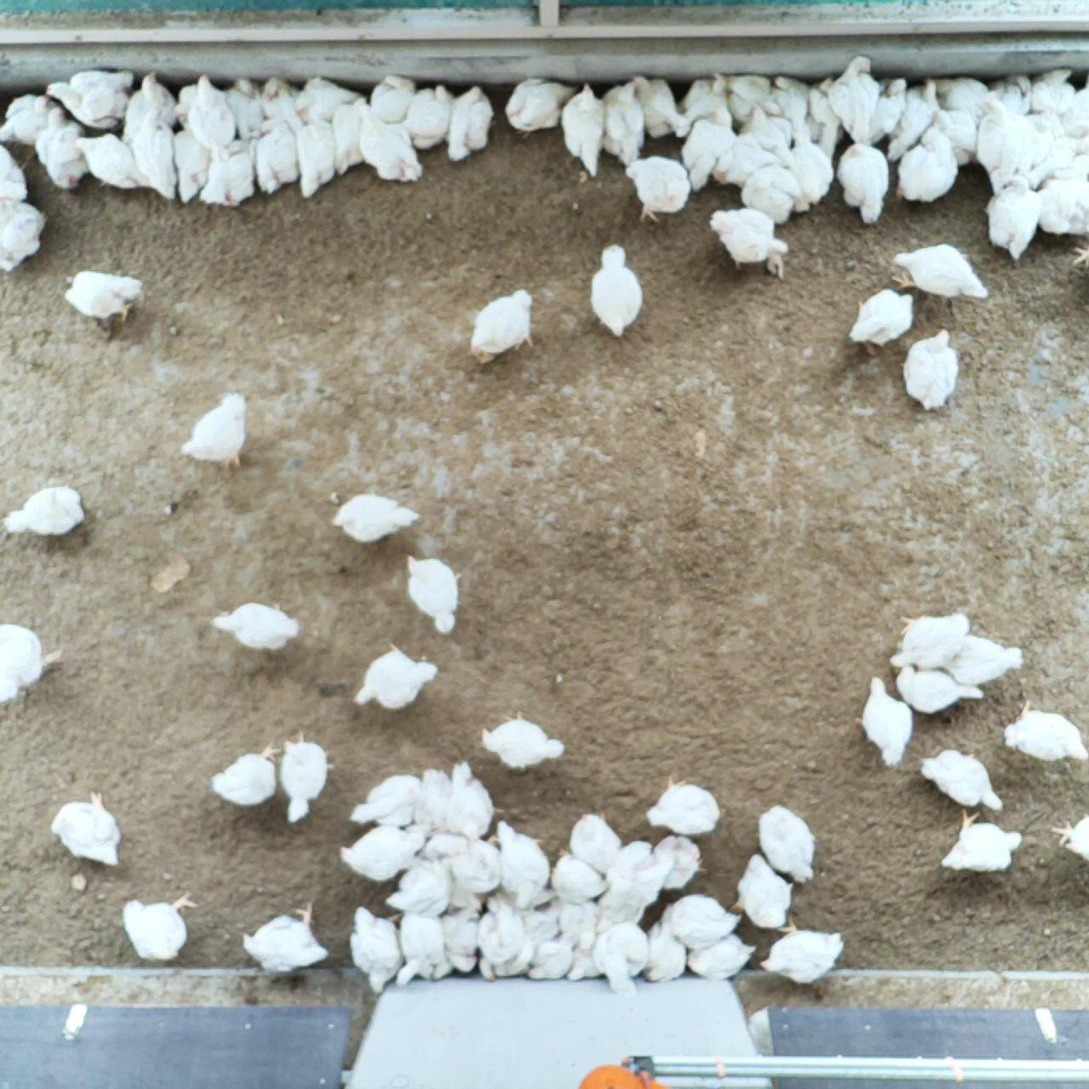chicken: (41, 65, 139, 132), (919, 745, 1008, 813), (350, 105, 425, 185), (50, 791, 124, 871), (890, 241, 990, 300), (273, 728, 333, 826), (760, 915, 849, 981), (119, 887, 196, 963), (244, 902, 331, 969), (880, 612, 971, 676), (975, 92, 1034, 190), (587, 240, 646, 336), (353, 643, 441, 707), (412, 828, 499, 892), (641, 772, 724, 839), (124, 101, 180, 200), (336, 821, 429, 880), (482, 707, 568, 770), (676, 108, 739, 194), (1005, 698, 1089, 762), (181, 389, 248, 469), (402, 552, 465, 637), (880, 75, 943, 160), (465, 288, 533, 366), (938, 809, 1022, 872), (827, 53, 881, 150), (707, 206, 790, 269), (389, 905, 455, 984), (758, 800, 819, 885), (348, 907, 408, 993), (859, 675, 915, 767), (33, 107, 93, 191), (890, 664, 989, 714), (71, 130, 151, 191), (832, 140, 890, 224), (596, 78, 647, 173), (62, 267, 144, 326), (211, 740, 282, 808), (0, 482, 86, 538), (934, 633, 1026, 685), (506, 74, 583, 136), (732, 854, 798, 926), (175, 76, 239, 150), (331, 489, 419, 542), (493, 817, 545, 905), (625, 157, 693, 224), (213, 602, 300, 654), (898, 126, 956, 204), (559, 81, 607, 175), (399, 77, 456, 156), (902, 328, 958, 408), (437, 759, 493, 838), (847, 287, 916, 350), (858, 71, 914, 148), (985, 174, 1036, 258), (602, 836, 664, 905), (666, 892, 738, 950), (112, 70, 176, 135), (627, 69, 689, 136), (194, 144, 255, 212), (708, 68, 782, 124), (383, 860, 453, 919), (0, 189, 48, 273), (785, 126, 836, 205), (595, 922, 651, 993), (288, 74, 361, 128), (674, 68, 734, 132), (586, 881, 651, 939), (442, 84, 489, 163), (362, 70, 420, 134), (743, 162, 803, 223), (0, 94, 61, 153), (0, 620, 42, 705), (328, 91, 368, 180), (1028, 132, 1089, 190), (348, 778, 420, 827), (802, 76, 844, 160), (294, 117, 335, 203), (712, 138, 779, 190), (685, 934, 761, 979), (1033, 174, 1089, 235), (930, 76, 999, 125), (638, 920, 690, 984), (932, 104, 984, 168), (253, 69, 302, 136), (1018, 106, 1067, 172), (477, 894, 525, 961), (570, 812, 616, 880), (254, 119, 294, 197), (1026, 67, 1074, 130), (656, 830, 707, 889), (172, 123, 209, 204), (738, 101, 789, 159), (548, 845, 602, 899), (441, 908, 482, 979), (222, 75, 264, 144), (407, 765, 449, 834), (553, 890, 600, 951), (768, 75, 809, 140), (526, 936, 579, 986), (475, 943, 534, 984), (986, 68, 1029, 117), (1053, 807, 1089, 863), (1059, 70, 1089, 132), (564, 943, 601, 987), (0, 141, 26, 201), (532, 897, 565, 942)
